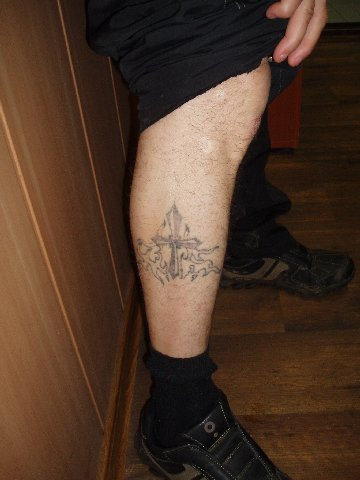tatu9_krest: (153, 205, 203, 279)
